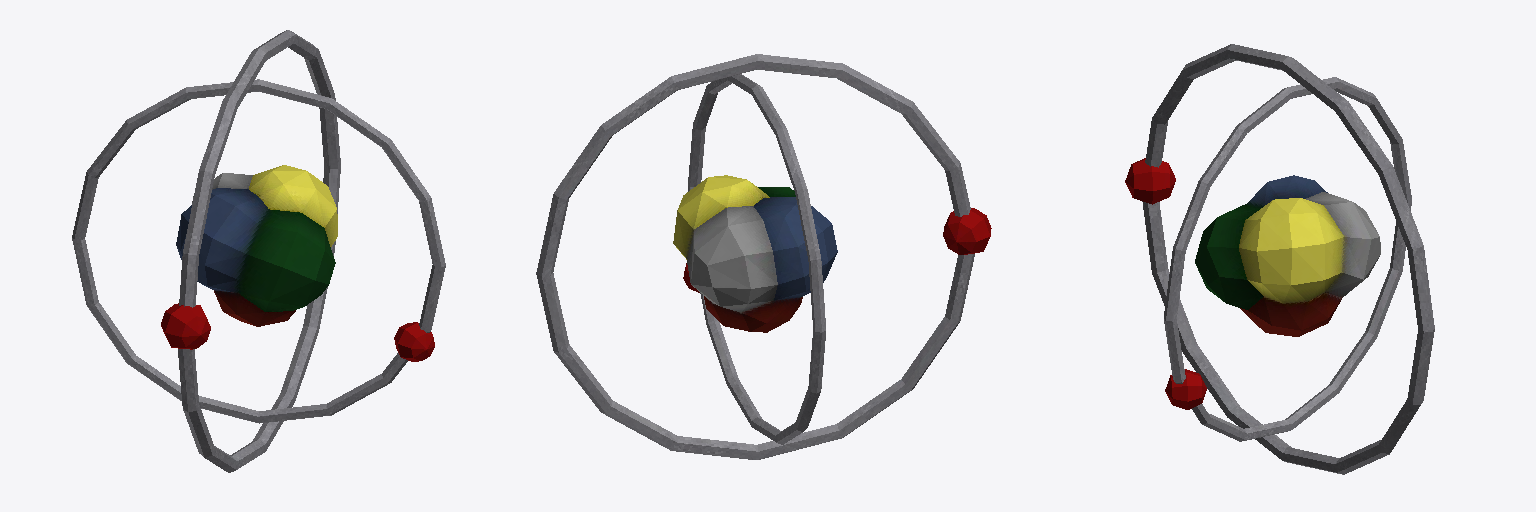
The picture shows the model from 3 angles: view 1: azimuth 30°, elevation 25°; view 2: azimuth 150°, elevation 25°; view 3: azimuth 270°, elevation 25°; orthographic projection.
Parts seen in each view (by area): view 1: unwrapped2, Object09, Object10, Object12, Object11; view 2: Object09, unwrapped2, Object10, Object12; view 3: unwrapped2, Object09, Object10, Object12, Object11.
Part boxes in pixels (x1,y1,x2,y2): unwrapped2: (176, 165, 337, 326); Object09: (178, 30, 340, 472); Object10: (72, 79, 445, 423); Object12: (161, 303, 210, 349); Object11: (394, 322, 434, 361); Object09: (536, 54, 974, 459); unwrapped2: (673, 175, 837, 332); Object10: (688, 74, 825, 444); Object12: (943, 208, 991, 254); unwrapped2: (1195, 175, 1380, 336); Object09: (1142, 44, 1434, 474); Object10: (1164, 77, 1411, 441); Object12: (1125, 158, 1175, 204); Object11: (1165, 369, 1206, 409).
Bounding box in the file's own units: 28.53 × 35.32 × 24.4.
1 materials, 1 textured.